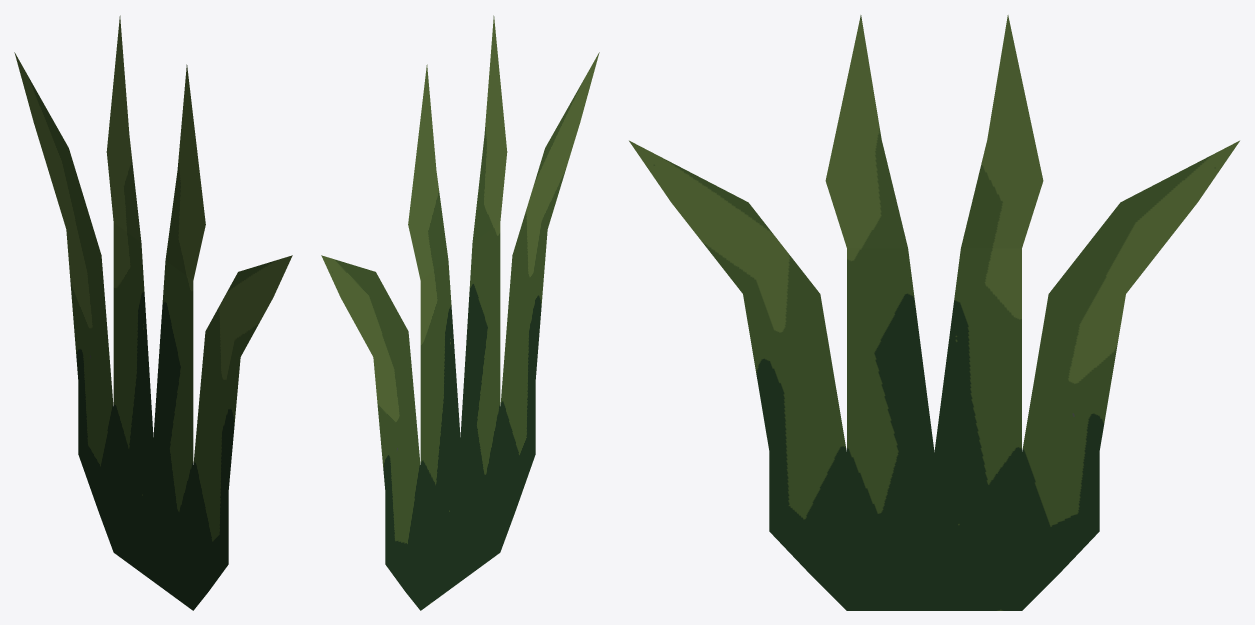
The model's file is plant.glb.
3 renders of one model, left to right at view 1: azimuth 30°, elevation 25°; view 2: azimuth 150°, elevation 25°; view 3: azimuth 270°, elevation 25°, orthographic. The views are drawn at different scales.
Parts seen in each view (by area): view 1: Plane; view 2: Plane; view 3: Plane.
Part boxes in pixels (x1,y1,x2,y2): Plane: [14, 15, 292, 610]; Plane: [321, 15, 599, 610]; Plane: [629, 15, 1239, 610].
Size of the model in its own units: 0.022 by 4.06 by 3.77.
Materials: 1 (1 with a texture image).
